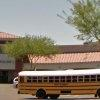Bus: (10, 63, 99, 98)
